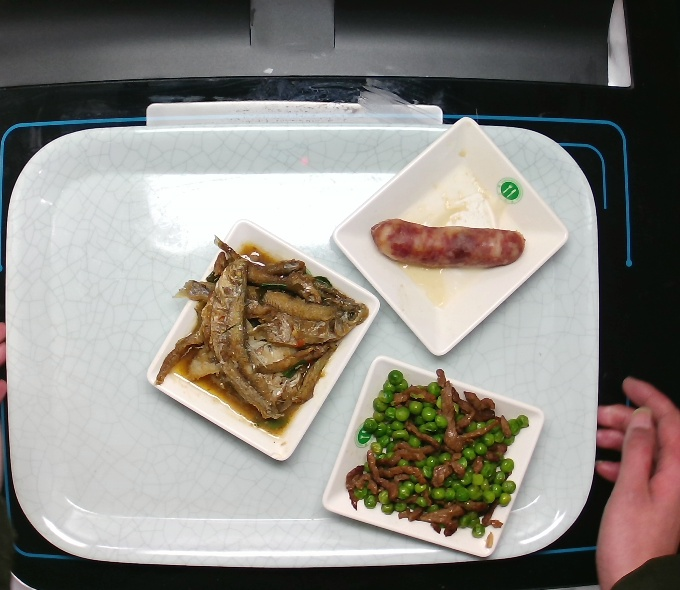wcq-CanDouNiuRou: (344, 369, 534, 542)
wcq-XiangChang: (368, 209, 532, 278)
wcq-XiaoJiYu: (149, 233, 369, 429)
